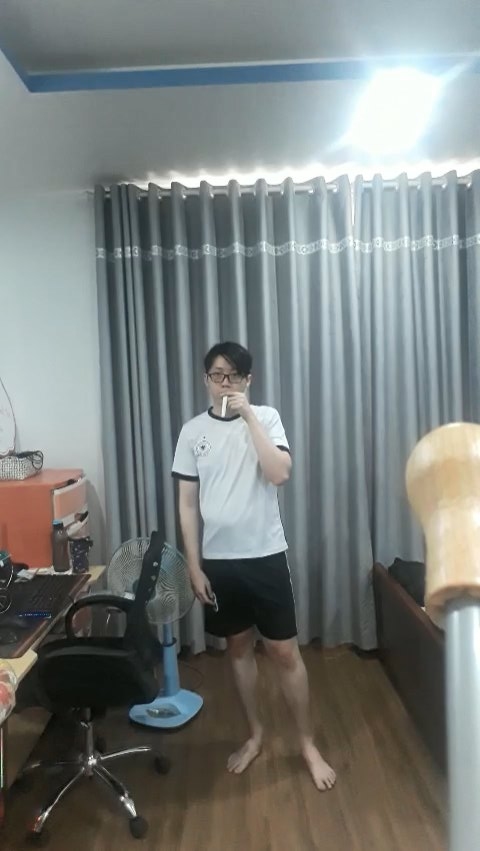cigarette: (219, 397, 229, 419)
person: (169, 332, 343, 793)
